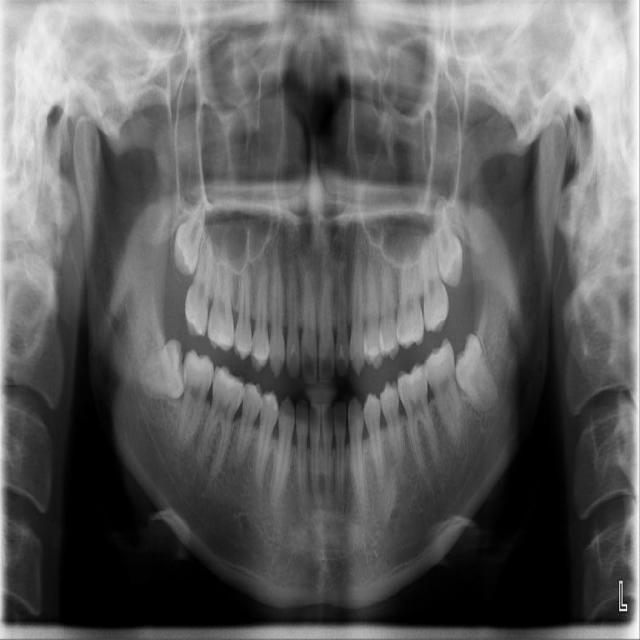Filling: (335, 333, 349, 377)
impacted tooth: (134, 339, 184, 399), (457, 334, 496, 409), (435, 198, 465, 284), (174, 193, 204, 271)
